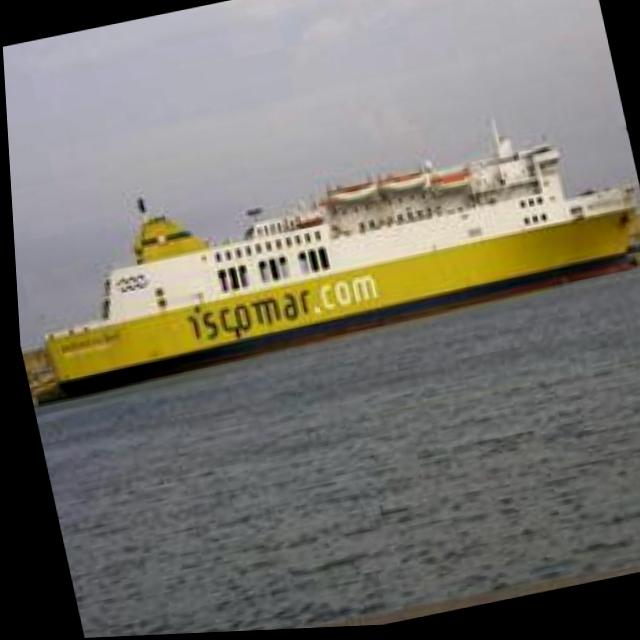ship2: (40, 124, 637, 399)
